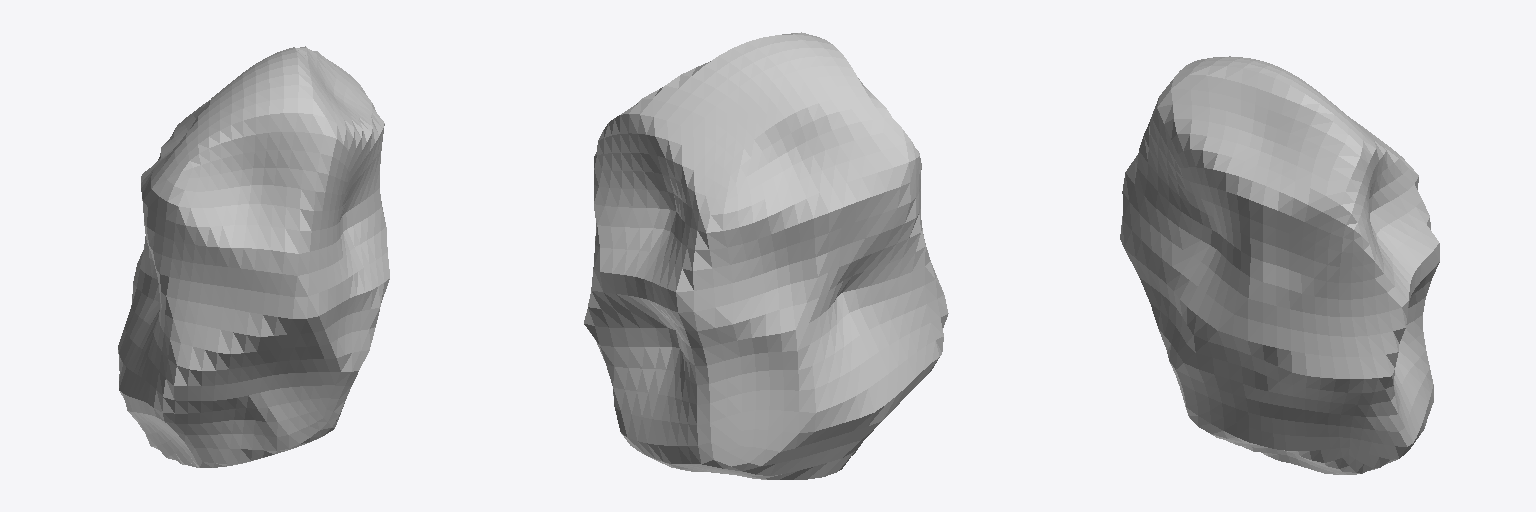
Rendered from scoglio-6.obj.
The picture shows the model from 3 angles: view 1: azimuth 30°, elevation 25°; view 2: azimuth 150°, elevation 25°; view 3: azimuth 270°, elevation 25°; orthographic projection.
Visible parts, largest first — view 1: Cube.001; view 2: Cube.001; view 3: Cube.001.
Boxes of the visible parts, x1,y1,x2,y2 form: Cube.001: [118, 46, 389, 467]; Cube.001: [584, 32, 948, 479]; Cube.001: [1120, 56, 1439, 474].
Size of the model in its own units: 4.76 by 6.61 by 4.81.